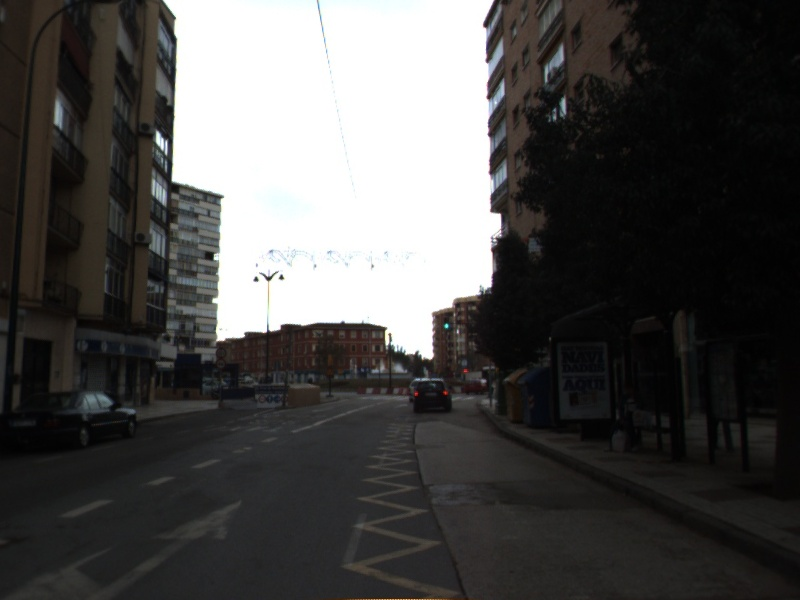STRAIGHT_LEFT: (1, 497, 244, 600)
